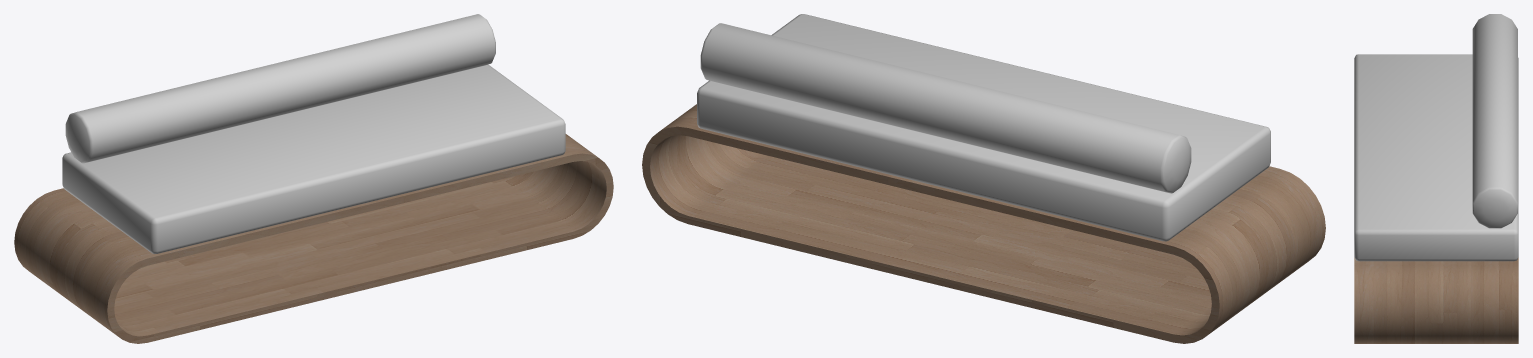
File: D_Bench_003_a.fbx
The picture shows the model from 3 angles, left to right: view 1: azimuth 30°, elevation 25°; view 2: azimuth 150°, elevation 25°; view 3: azimuth 270°, elevation 25°; orthographic projection. The views are drawn at different scales.
Visible parts, largest first — view 1: D_Bench_003_a; view 2: D_Bench_003_a; view 3: D_Bench_003_a.
Boxes of the visible parts, <box> form: D_Bench_003_a: <box>14,14,613,343</box>; D_Bench_003_a: <box>642,14,1325,343</box>; D_Bench_003_a: <box>1354,14,1518,343</box>.
Size of the model in its own units: 2.2 by 0.6932 by 0.7.
